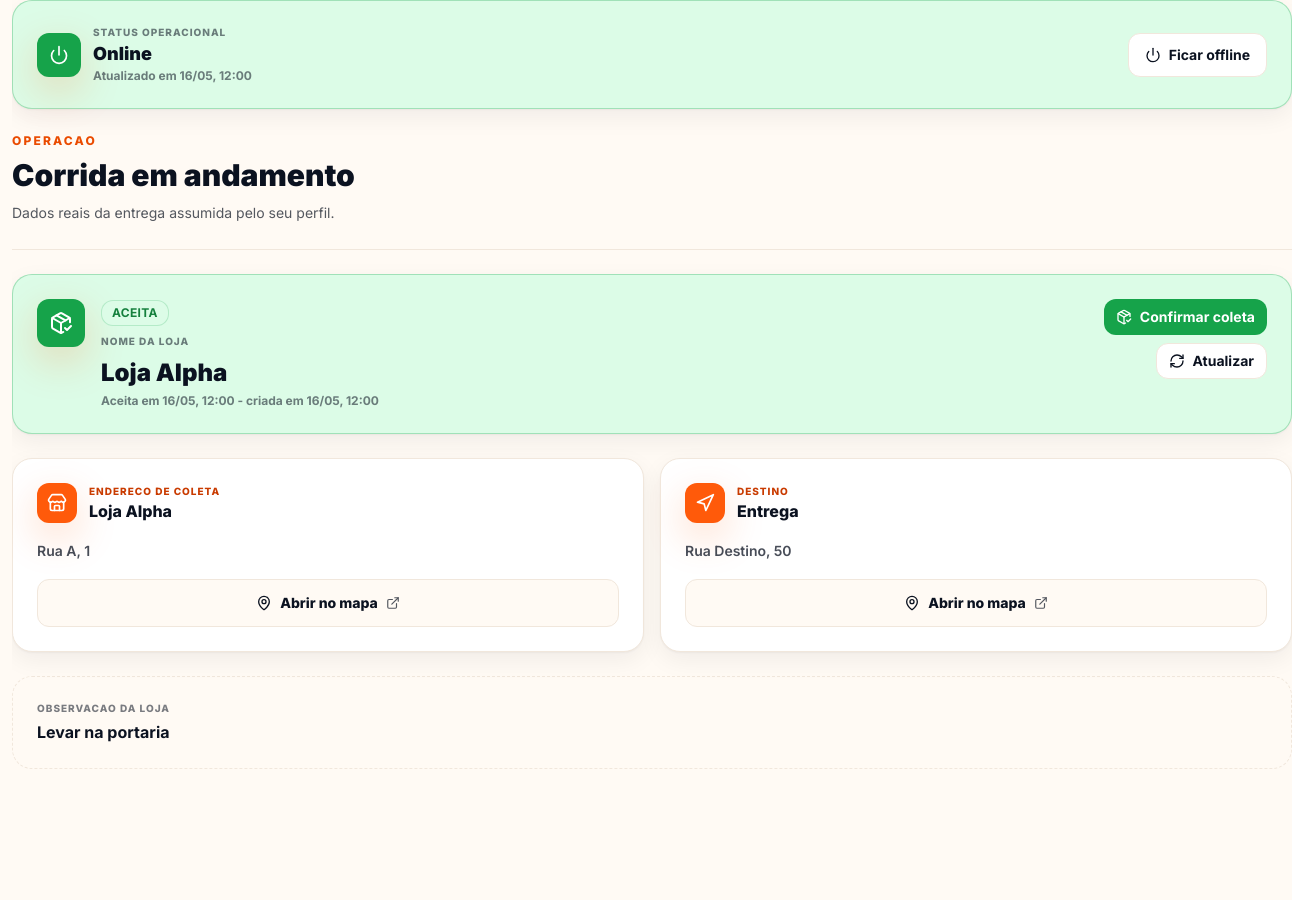
Test: MotoboyRealFlow › shows a recoverable delivery-status error
This screenshot has width=1292, height=900.
Click the button "Confirmar coleta".
click(1185, 317)  # box [1104, 299, 1267, 335]
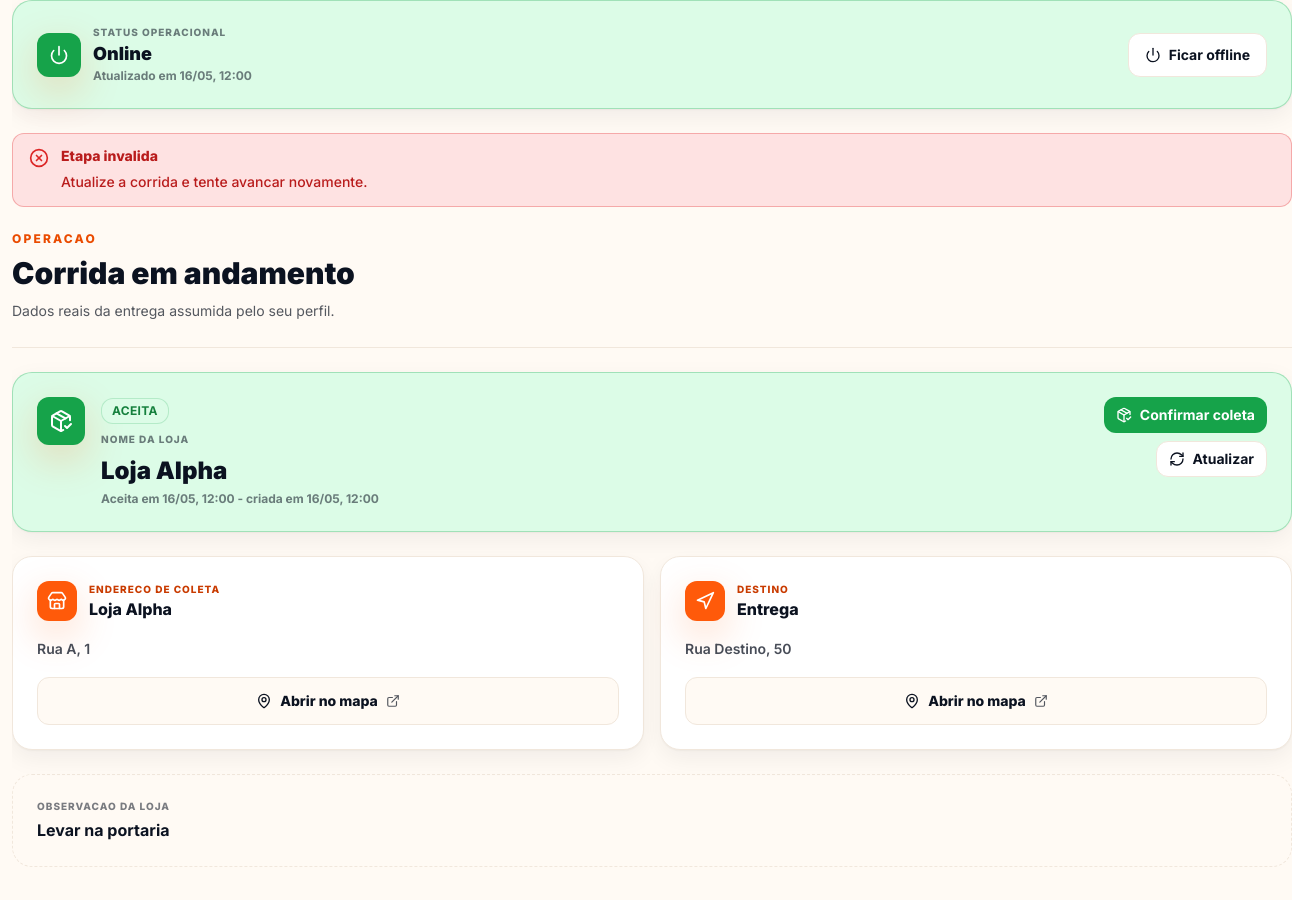
Check: the button "Confirmar coleta" is shown, box [1104, 397, 1267, 433]
Check: the text "Etapa invalida" is shown, box [61, 147, 158, 164]
